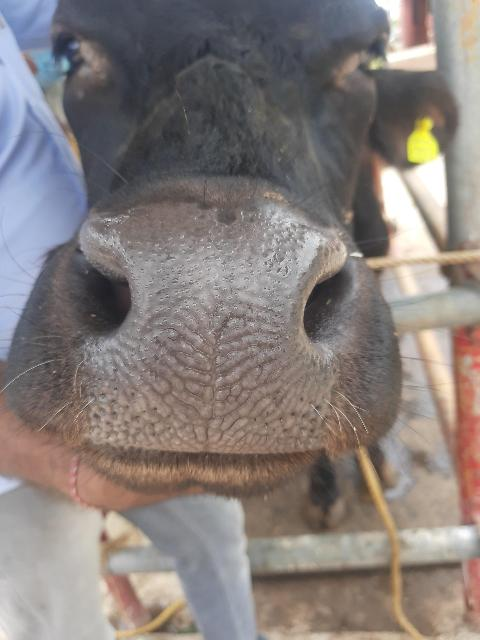Muzzle: (118, 219, 308, 455)
